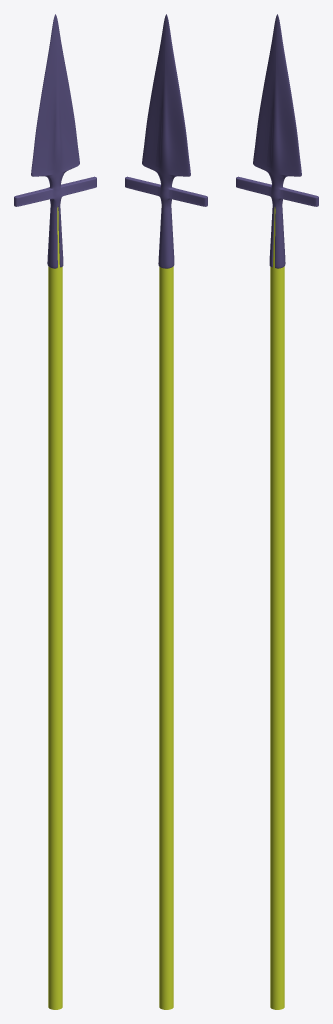
The picture shows the model from 3 angles, left to right: view 1: azimuth 30°, elevation 25°; view 2: azimuth 150°, elevation 25°; view 3: azimuth 330°, elevation 25°; orthographic projection.
Parts seen in each view (by area): view 1: Object_4, split_parent_1; view 2: Object_4, split_parent_1; view 3: Object_4, split_parent_1.
Part boxes in pixels (x1,y1,x2,y2): Object_4: [48, 207, 62, 1009]; split_parent_1: [14, 14, 96, 268]; Object_4: [159, 266, 173, 1009]; split_parent_1: [125, 14, 207, 268]; Object_4: [270, 207, 284, 1009]; split_parent_1: [236, 14, 318, 268].
Size of the model in its own units: 0.0866 by 1 by 0.014.
